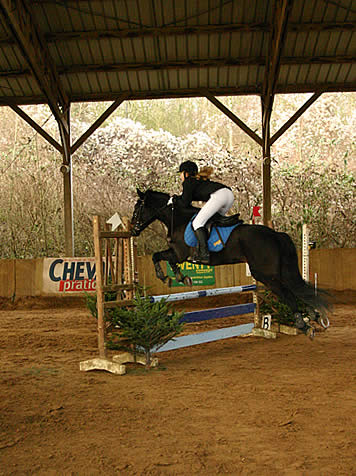person: (172, 164, 236, 263)
